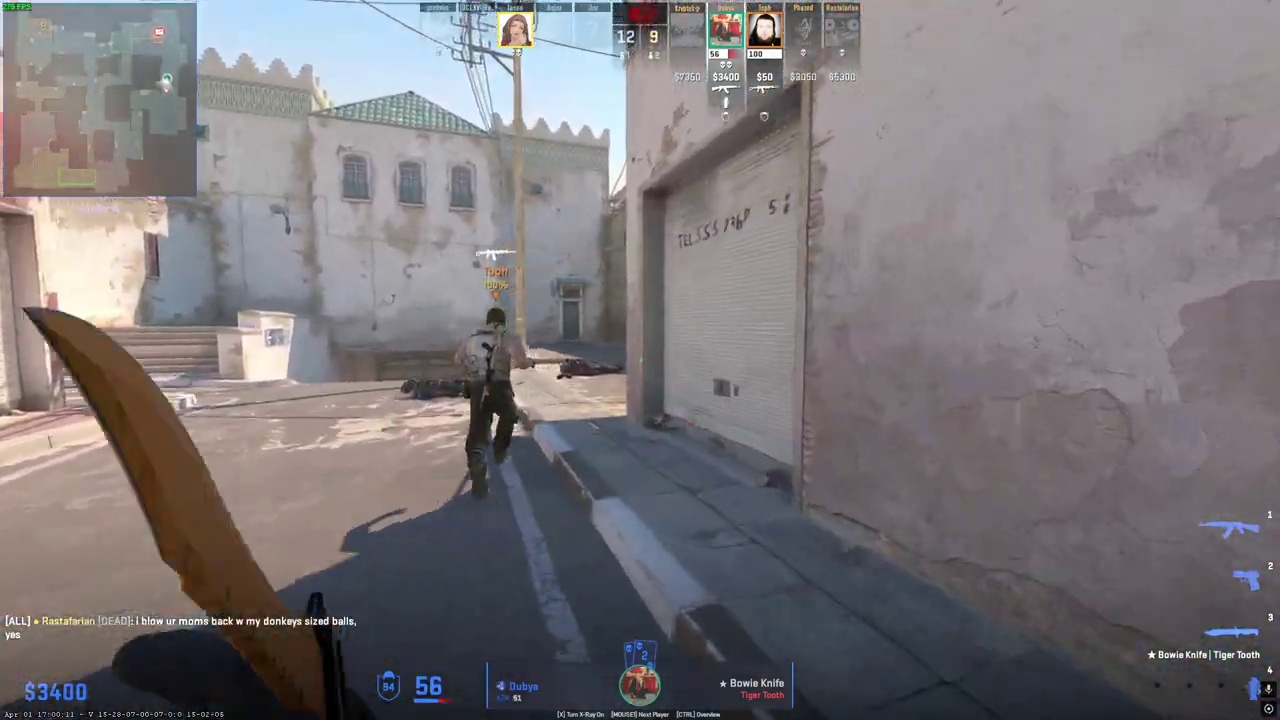Terrorist: (454, 307, 527, 500)
